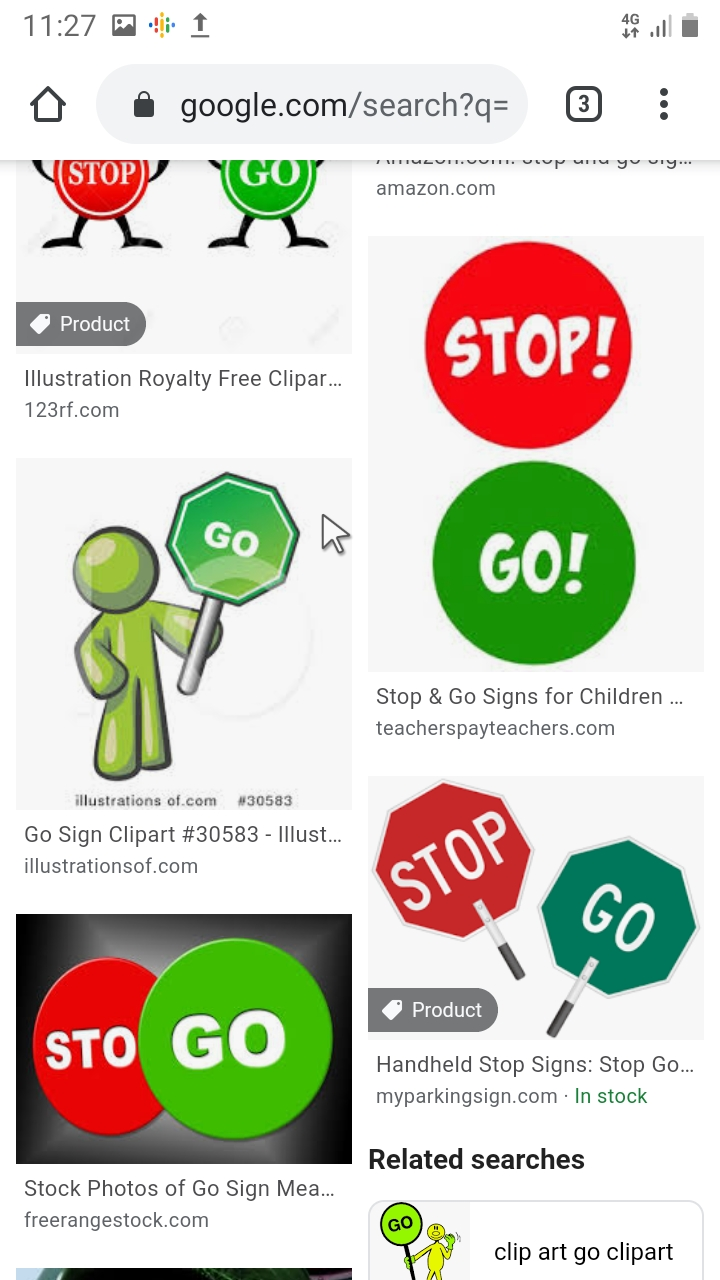go: (425, 463, 651, 674), (161, 937, 321, 1129), (545, 819, 700, 1012), (172, 468, 308, 615)
stop: (413, 231, 676, 453), (368, 788, 531, 941), (49, 157, 149, 214)
